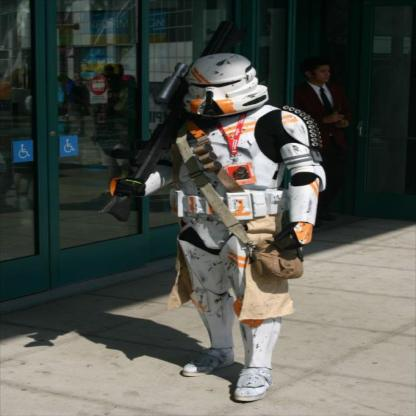Helmet: (174, 49, 271, 117)
